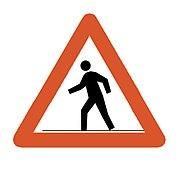Pedestrian Crossing: (10, 8, 170, 158)
